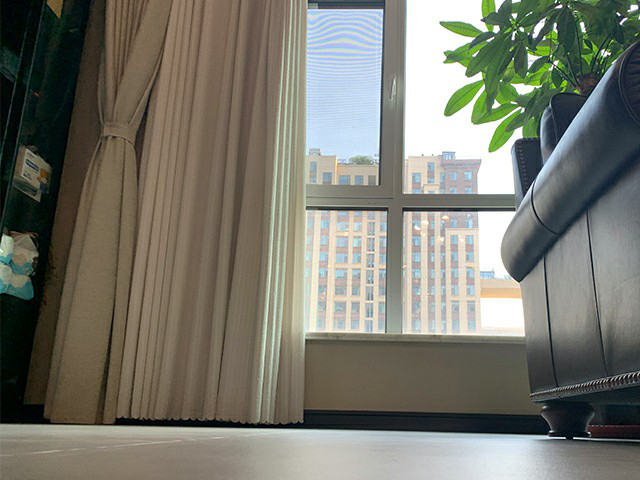curtain: (175, 1, 305, 424), (47, 1, 173, 424)
sofa: (499, 35, 640, 441)
